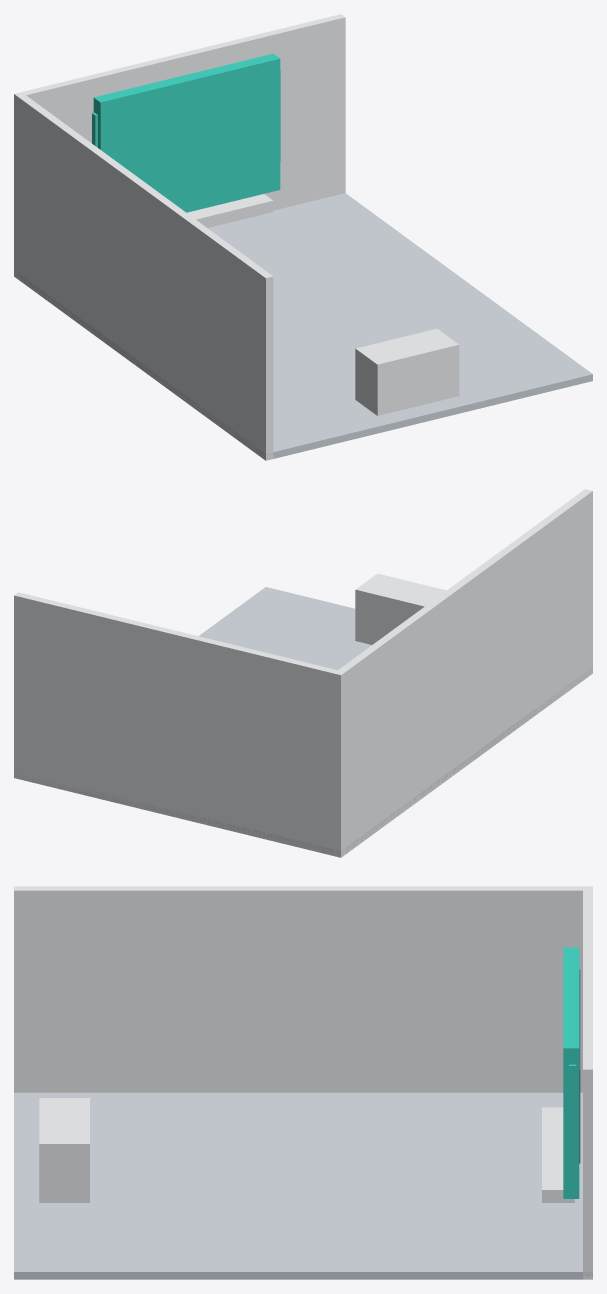
3 views of the same model, one above another, from view 1: azimuth 30°, elevation 25°; view 2: azimuth 150°, elevation 25°; view 3: azimuth 270°, elevation 25° (orthographic). The views are drawn at different scales.
Visible parts, largest first — view 1: Exhibition Booth Concept; view 2: Exhibition Booth Concept; view 3: Exhibition Booth Concept.
Boxes of the visible parts, x1,y1,x2,y2 form: Exhibition Booth Concept: (14,14,592,460); Exhibition Booth Concept: (14,489,592,857); Exhibition Booth Concept: (14,886,592,1279).
Size of the model in its own units: 6 by 3.2 by 8.
